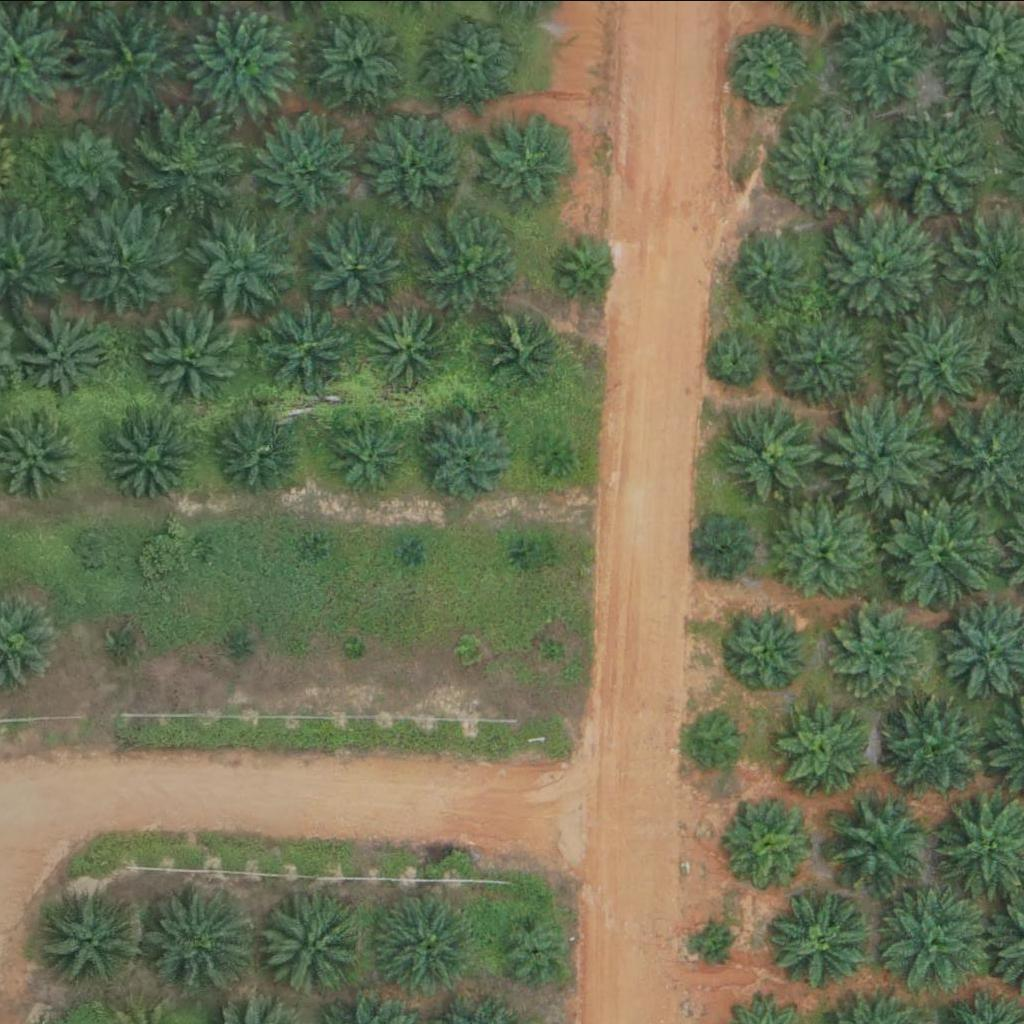Kelapa_Sawit: (878, 484, 1004, 609), (762, 96, 888, 221), (873, 108, 999, 233), (881, 300, 1006, 425), (194, 6, 308, 119), (878, 688, 992, 801), (74, 9, 187, 122), (827, 399, 940, 512), (64, 202, 178, 314), (412, 400, 525, 512), (141, 881, 254, 993), (872, 883, 985, 995), (830, 211, 943, 323), (193, 215, 294, 315), (142, 306, 243, 406), (254, 298, 355, 398), (421, 211, 522, 311), (366, 117, 467, 217), (476, 112, 577, 212), (41, 891, 142, 991), (832, 605, 933, 705), (773, 501, 874, 601), (721, 401, 822, 501), (775, 312, 876, 412), (137, 110, 237, 210), (258, 117, 358, 217), (425, 6, 525, 106), (261, 896, 361, 996), (375, 891, 475, 991), (767, 888, 867, 988), (825, 793, 925, 893), (834, 7, 934, 107), (323, 406, 412, 494), (317, 21, 405, 109), (215, 409, 303, 497), (367, 300, 455, 388), (777, 702, 865, 790), (726, 603, 814, 691), (319, 221, 407, 308), (20, 309, 108, 396), (109, 416, 197, 503), (731, 797, 819, 884), (497, 910, 573, 985), (48, 126, 124, 201), (731, 25, 807, 100), (485, 306, 560, 381), (734, 234, 809, 309), (558, 239, 621, 302), (696, 516, 759, 579), (689, 707, 752, 769), (713, 334, 763, 384), (79, 527, 117, 565), (534, 434, 572, 472), (697, 920, 735, 957), (194, 531, 219, 556), (310, 537, 335, 562), (114, 631, 139, 656), (227, 631, 252, 656), (345, 635, 370, 660), (457, 639, 482, 664), (541, 636, 566, 661), (399, 536, 424, 561), (509, 543, 534, 568)
